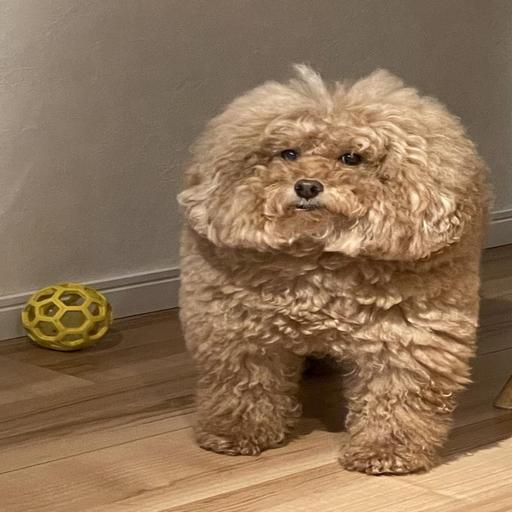Crewmate: (171, 81, 484, 475)
